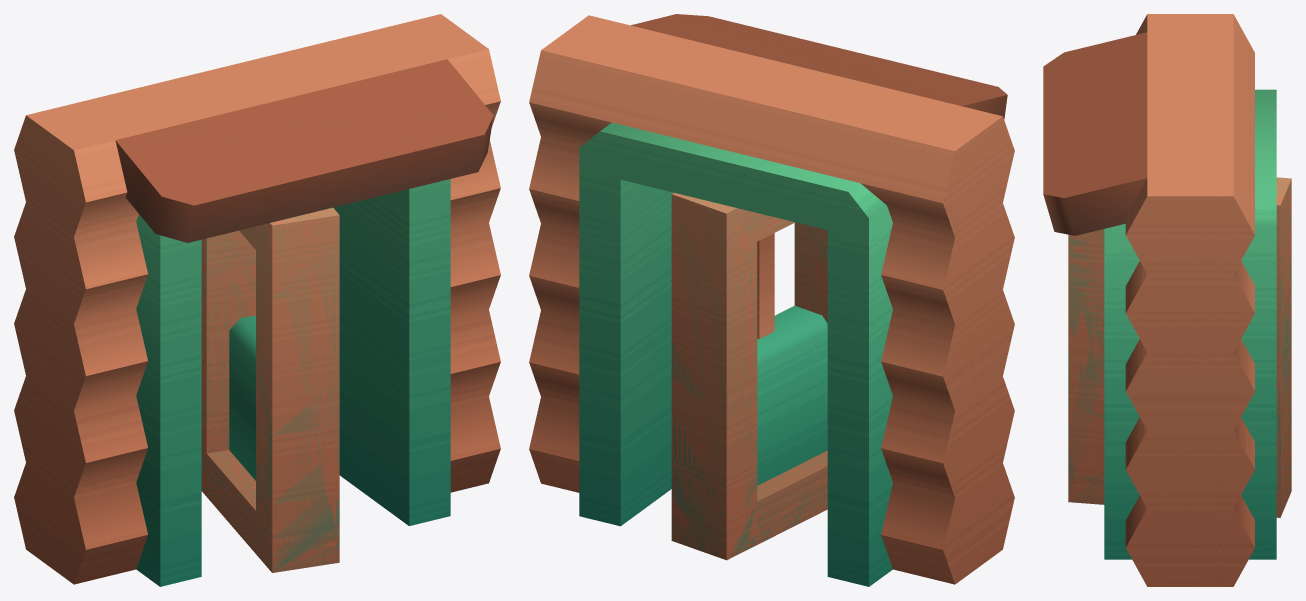
The model's file is cabin-overhang-door-rotate.glb.
3 renders of one model, left to right at view 1: azimuth 30°, elevation 25°; view 2: azimuth 150°, elevation 25°; view 3: azimuth 270°, elevation 25°, orthographic. The views are drawn at different scales.
Visible parts, largest first — view 1: cabin-overhang-door-rotate, cabin-overhang-door-rotate.001; view 2: cabin-overhang-door-rotate, cabin-overhang-door-rotate.001; view 3: cabin-overhang-door-rotate, cabin-overhang-door-rotate.001.
Boxes of the visible parts, <box> form: cabin-overhang-door-rotate: <box>14,14,500,586</box>; cabin-overhang-door-rotate.001: <box>201,207,339,572</box>; cabin-overhang-door-rotate: <box>529,14,1014,586</box>; cabin-overhang-door-rotate.001: <box>671,193,827,560</box>; cabin-overhang-door-rotate: <box>1043,14,1276,586</box>; cabin-overhang-door-rotate.001: <box>1068,177,1291,517</box>.
Size of the model in its own units: 3 by 3 by 1.73.
Materials: 1 (1 with a texture image).
